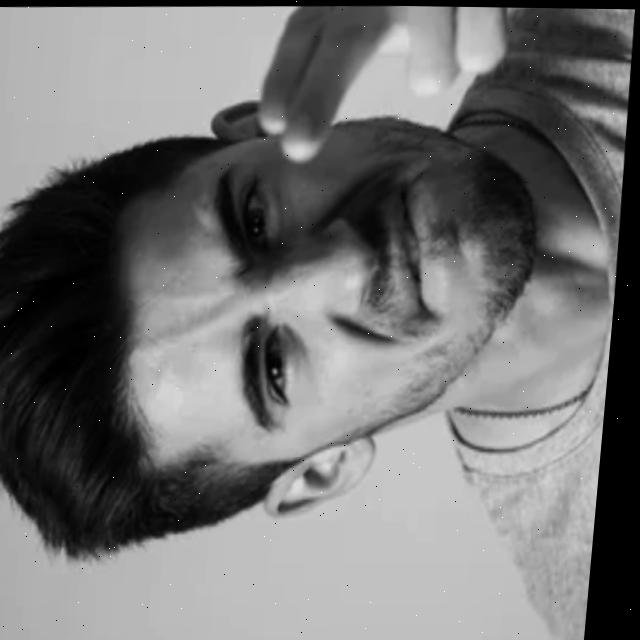angry: (0, 82, 548, 554)
